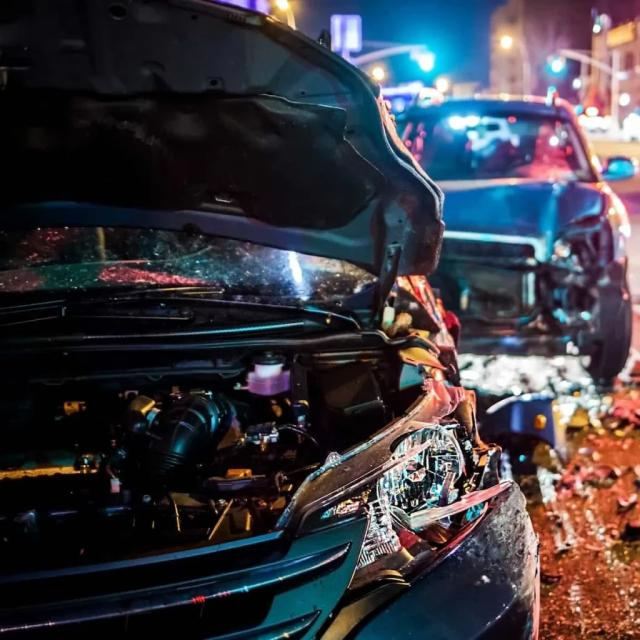Accident: (6, 0, 640, 638)
